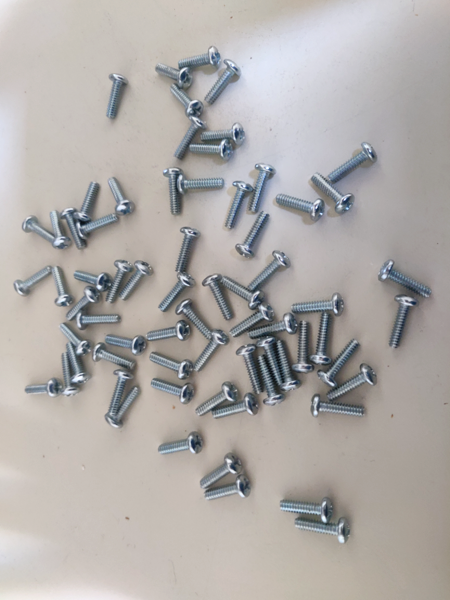shortscrew: (317, 339, 361, 388), (379, 260, 433, 298), (328, 143, 378, 183), (326, 364, 378, 401), (311, 171, 355, 214), (204, 59, 242, 105), (229, 302, 275, 339), (249, 251, 290, 292), (237, 210, 271, 259), (389, 295, 419, 350), (219, 276, 266, 311), (294, 517, 352, 545), (158, 272, 197, 313), (196, 382, 240, 418), (194, 329, 230, 372), (202, 273, 234, 321), (174, 115, 207, 161), (175, 299, 212, 340), (105, 387, 141, 429), (200, 454, 243, 489), (225, 181, 255, 231), (256, 355, 285, 406), (280, 497, 334, 524), (119, 261, 155, 301), (249, 163, 277, 214), (274, 341, 302, 392), (256, 336, 284, 387), (236, 345, 264, 395), (277, 193, 325, 222), (248, 313, 298, 340), (66, 286, 102, 323), (291, 321, 316, 374), (13, 265, 53, 298), (149, 352, 194, 381), (204, 475, 251, 502), (106, 260, 134, 305), (309, 313, 333, 365), (311, 395, 365, 418), (92, 343, 136, 371), (212, 393, 259, 419), (174, 227, 200, 274), (291, 293, 344, 316), (74, 181, 101, 225), (158, 431, 204, 456), (109, 370, 134, 416), (151, 379, 195, 405), (155, 62, 194, 91), (169, 85, 203, 118), (59, 323, 92, 357), (108, 177, 136, 217), (61, 207, 87, 250), (65, 343, 92, 384), (105, 74, 129, 120), (178, 46, 222, 71), (77, 213, 118, 239), (177, 175, 225, 196), (60, 352, 82, 397), (22, 216, 56, 245), (163, 167, 183, 216), (202, 123, 246, 145), (190, 140, 233, 162), (75, 311, 122, 331), (147, 321, 191, 342), (52, 265, 73, 307), (105, 335, 147, 356), (74, 270, 114, 292), (50, 210, 71, 251), (25, 378, 62, 398)
